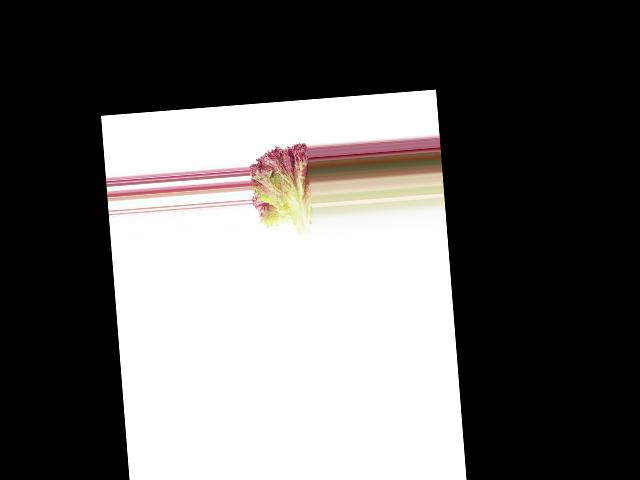lettuce: (248, 137, 314, 241)
